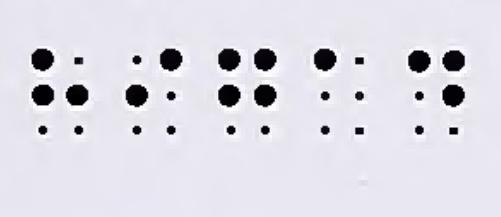letter_a: (312, 48, 371, 140)
letter_d: (406, 44, 467, 138)
letter_g: (216, 44, 277, 143)
letter_h: (24, 44, 93, 140)
letter_i: (126, 46, 182, 136)
